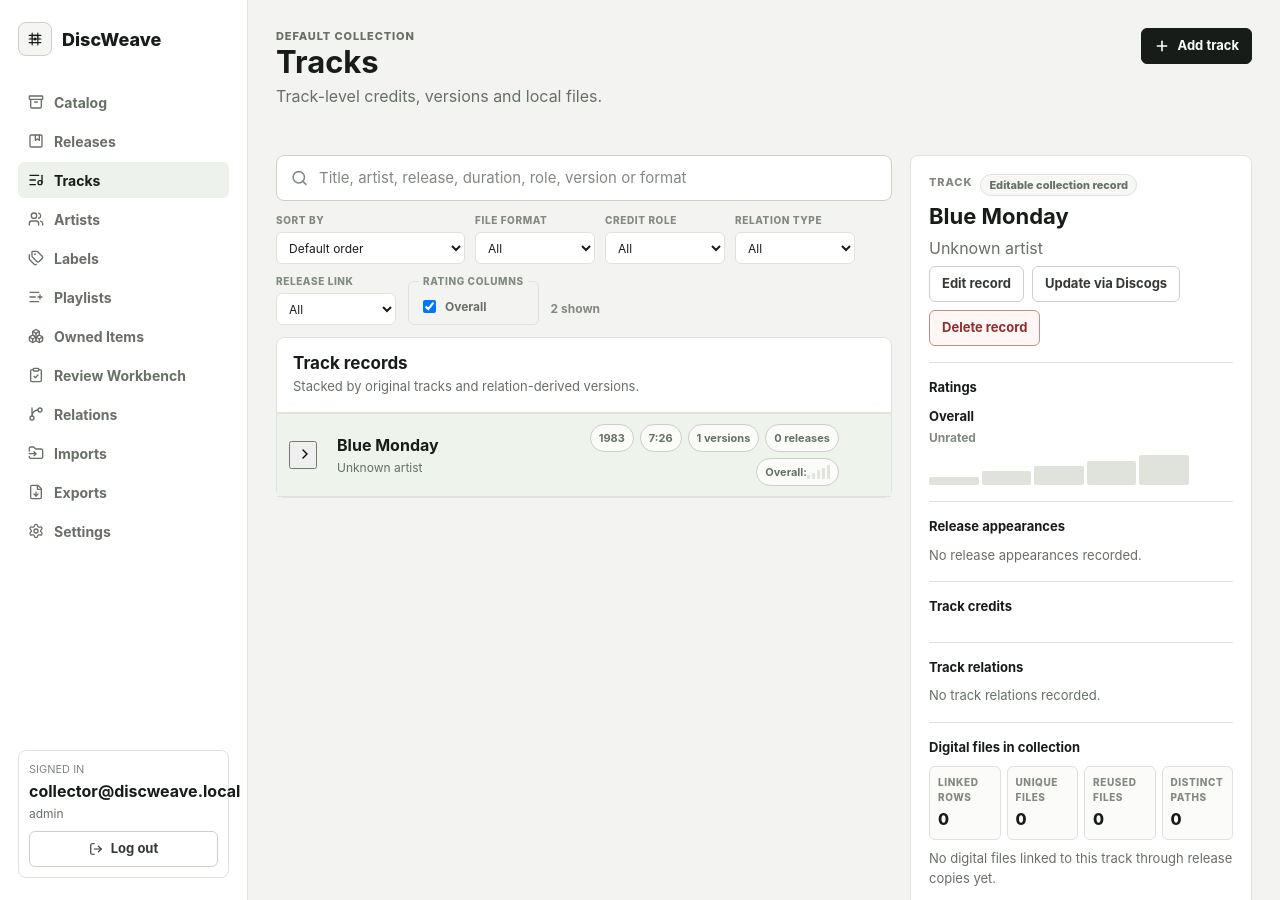
Test: App track stacks workspace › renders configured server track stacks with button semantics
expect the heading "Track records" is shown: met, box [293,353,408,373]
Click the button named "Expand stack": (303, 455) [289,441,317,469]
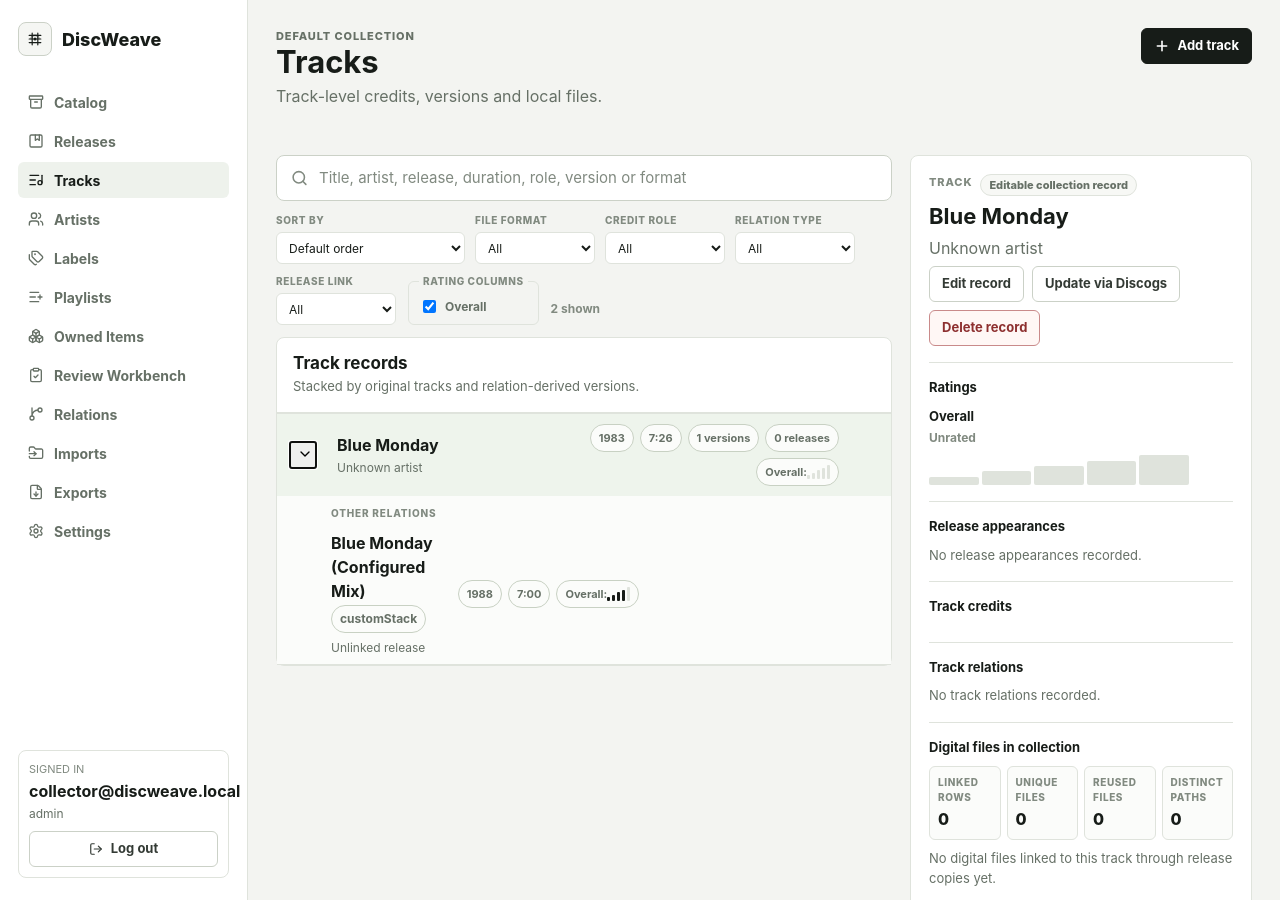
expect the button "Blue Monday (Configured Mix)" is shown: met, box [277,524,651,664]
expect the text "7:00" is shown: met, box [508,580,550,608]
expect the picture named "4 of 5" is shown: met, box [607,587,630,601]
